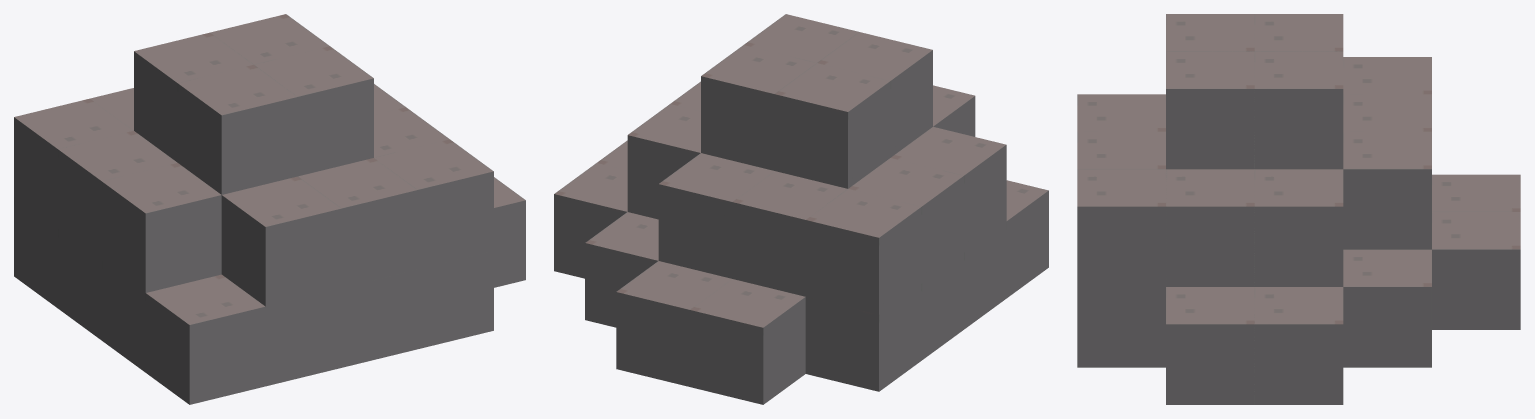
File: stone_small.fbx
The picture shows the model from 3 angles, left to right: view 1: azimuth 30°, elevation 25°; view 2: azimuth 150°, elevation 25°; view 3: azimuth 270°, elevation 25°; orthographic projection. The views are drawn at different scales.
Visible parts, largest first — view 1: stone_small22, stone_small37, stone_small25, stone_small11, stone_small17, stone_small4, stone_small27, stone_small2, stone_small30, stone_small24, stone_small28, stone_small14 (+9 smaller); view 2: stone_small2, stone_small30, stone_small10, stone_small9, stone_small33, stone_small38, stone_small19, stone_small8, stone_small25, stone_small24, stone_small11, stone_small3 (+9 smaller); view 3: stone_small19, stone_small29, stone_small21, stone_small3, stone_small33, stone_small4, stone_small17, stone_small31, stone_small36, stone_small38, stone_small28, stone_small27 (+6 smaller).
Boxes of the visible parts, <box> form: stone_small22: <box>145,274,265,404</box>; stone_small37: <box>221,176,341,306</box>; stone_small25: <box>177,64,297,194</box>; stone_small11: <box>102,163,221,292</box>; stone_small17: <box>374,139,493,269</box>; stone_small4: <box>254,46,373,176</box>; stone_small27: <box>298,158,417,287</box>; stone_small2: <box>14,98,133,228</box>; stone_small30: <box>134,32,253,162</box>; stone_small24: <box>58,130,177,260</box>; stone_small28: <box>417,251,493,348</box>; stone_small14: <box>265,288,341,386</box>; stone_small2: <box>805,189,921,314</box>; stone_small30: <box>774,63,890,188</box>; stone_small10: <box>689,279,805,404</box>; stone_small9: <box>805,284,921,391</box>; stone_small33: <box>658,153,773,278</box>; stone_small38: <box>616,261,731,386</box>; stone_small19: <box>701,45,816,170</box>; stone_small8: <box>732,171,847,296</box>; stone_small25: <box>817,32,932,157</box>; stone_small24: <box>848,158,963,283</box>; stone_small11: <box>891,127,1006,252</box>; stone_small3: <box>585,212,658,327</box>; stone_small19: <box>1254,51,1343,169</box>; stone_small29: <box>1254,287,1343,404</box>; stone_small21: <box>1254,169,1343,286</box>; stone_small3: <box>1343,249,1431,367</box>; stone_small33: <box>1343,131,1431,249</box>; stone_small4: <box>1166,51,1254,169</box>; stone_small17: <box>1077,169,1166,286</box>; stone_small31: <box>1166,169,1254,286</box>; stone_small36: <box>1166,287,1254,404</box>; stone_small38: <box>1432,212,1520,329</box>; stone_small28: <box>1077,287,1165,367</box>; stone_small27: <box>1077,131,1165,169</box>.
Size of the model in its own units: 125 by 74.8 by 125.
